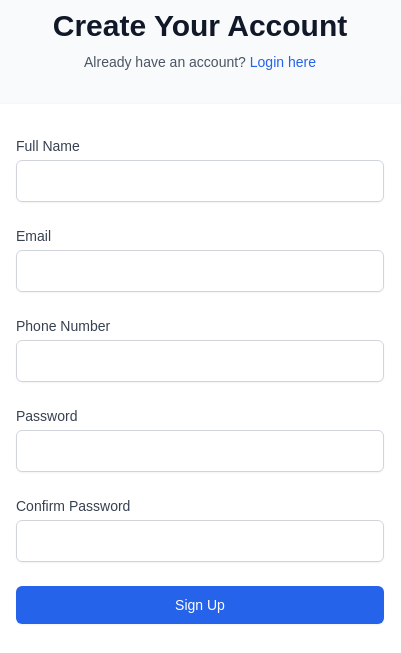
Test case: SignupPage › should display error message on failed signup
Type "Test User" into the field labelled "Full Name". click: (200, 181)
box: [16, 160, 384, 202]
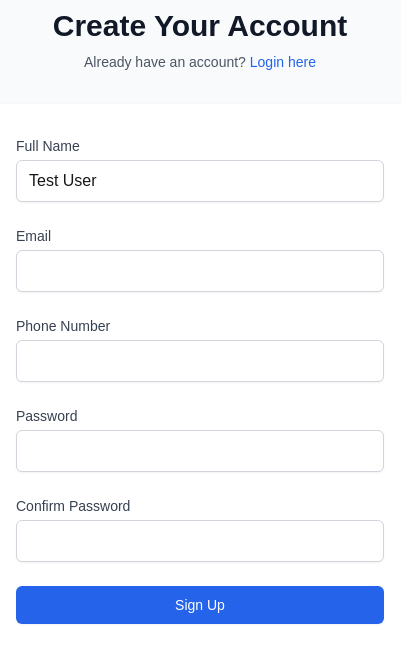
Type "existing@example.com" into the field labelled "Email". click: (200, 271)
box: [16, 250, 384, 292]
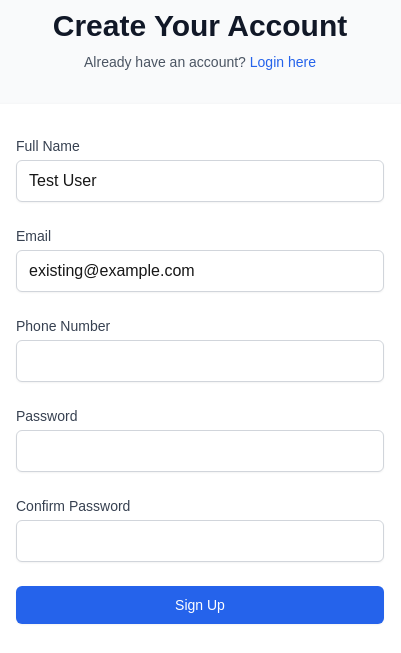
Type "+1234567890" into the field labelled "Phone Number". click: (200, 361)
box: [16, 340, 384, 382]
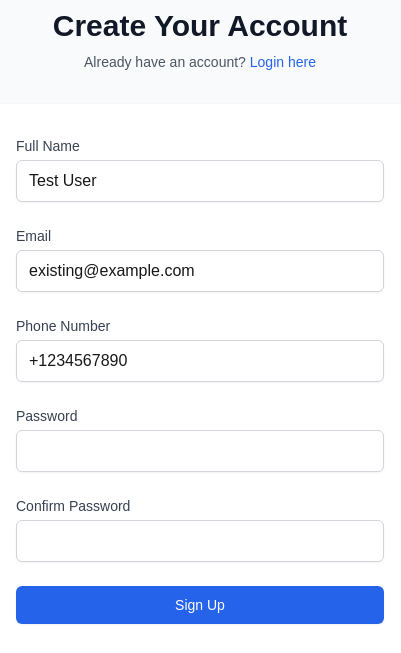
Type "password123" into the password field labelled "Password". click: (200, 451)
box: [16, 430, 384, 472]
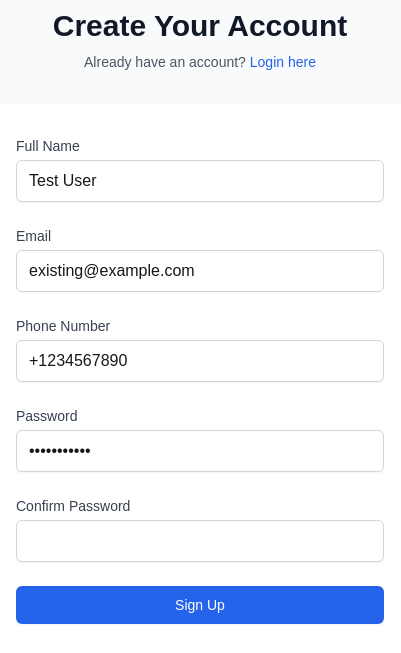
Type "password123" into the password field labelled "Confirm Password". click: (200, 541)
box: [16, 520, 384, 562]
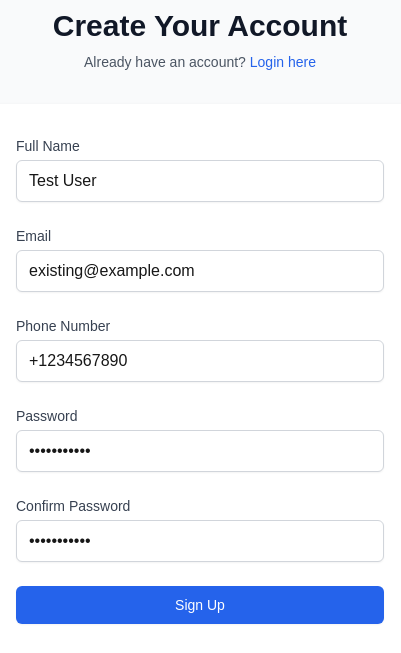
Click the button "Sign Up". click: (200, 605)
box: [16, 586, 384, 624]
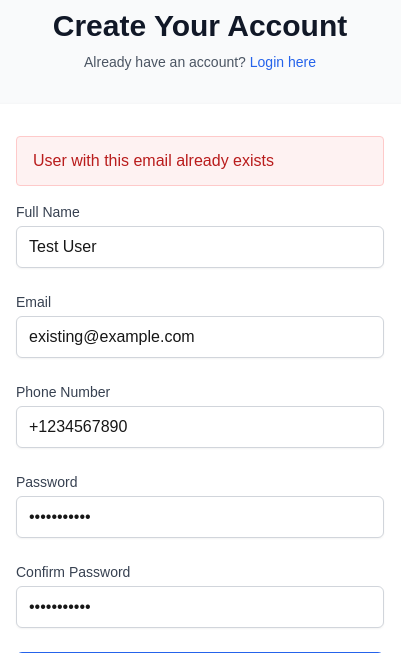
Result: the text "User with this email already exists" is shown at [16, 136, 384, 186]
